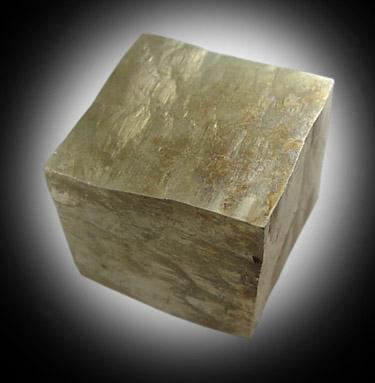pyrite: (45, 33, 335, 340)
